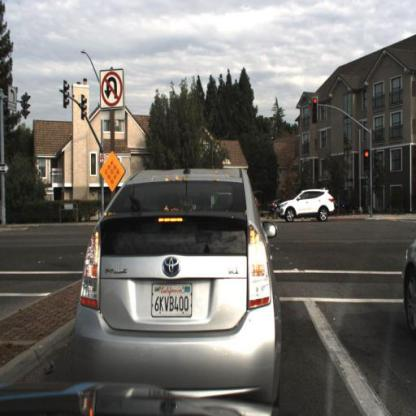car: (71, 168, 284, 399), (390, 207, 416, 353), (279, 189, 336, 225), (266, 191, 297, 223), (320, 191, 347, 220)
trafficLight-Red: (309, 96, 319, 130), (363, 145, 373, 172)
